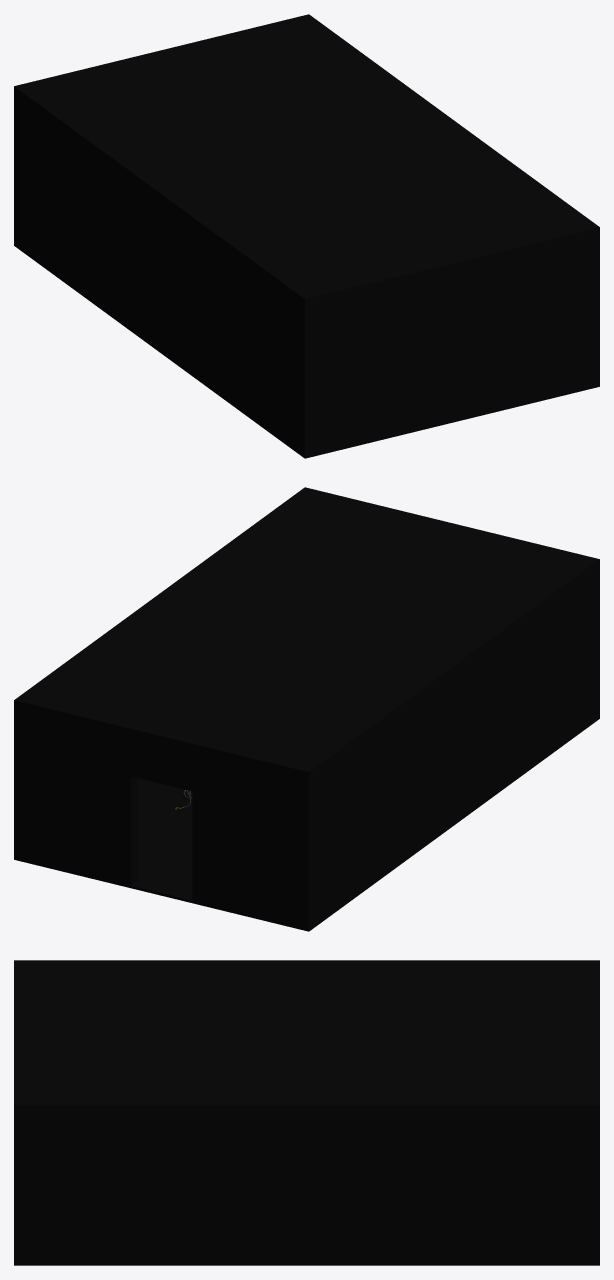
File: fullRoom2.glb
3 views of the same model, one above another, from view 1: azimuth 30°, elevation 25°; view 2: azimuth 150°, elevation 25°; view 3: azimuth 270°, elevation 25° (orthographic).
Visible parts, largest first — view 1: roomfinal; view 2: roomfinal; view 3: roomfinal.
Part boxes in pixels (x1,y1,x2,y2): roomfinal: (14, 14, 599, 458); roomfinal: (14, 487, 599, 931); roomfinal: (14, 960, 599, 1265).
Size of the model in its own units: 240 by 124 by 410.
Materials: 4 (1 with a texture image).
